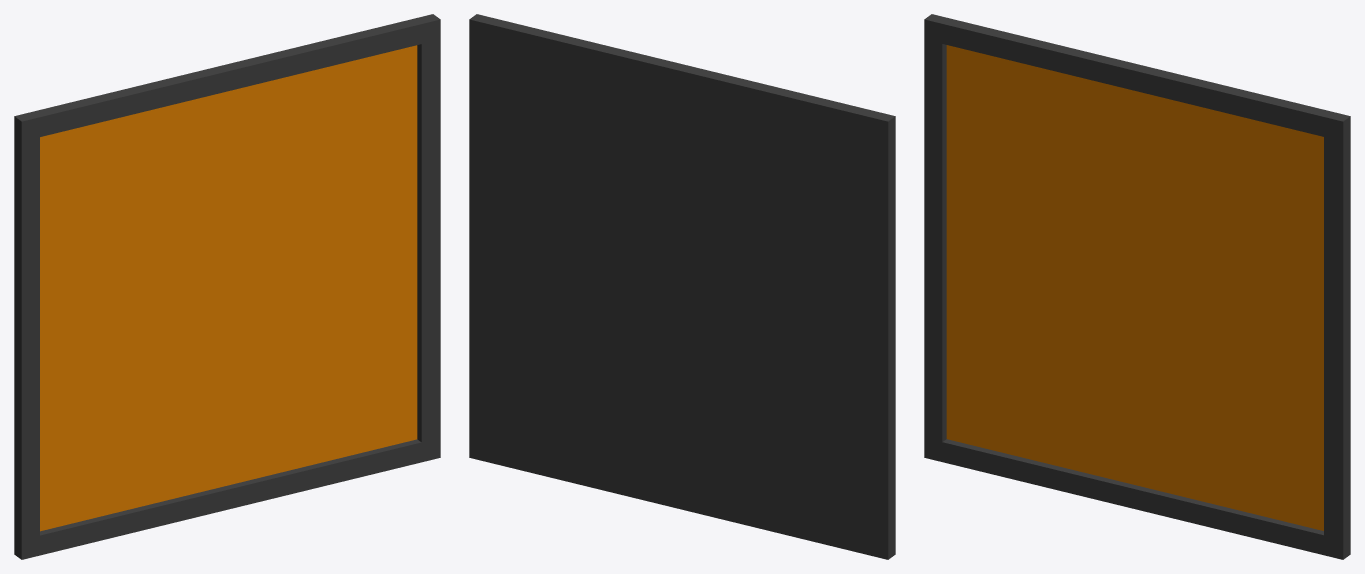
The model's file is картина.fbx.
3 views of the same model, side by side, from view 1: azimuth 30°, elevation 25°; view 2: azimuth 150°, elevation 25°; view 3: azimuth 330°, elevation 25° (orthographic).
Parts seen in each view (by area): view 1: Cube; view 2: Cube; view 3: Cube.
Part boxes in pixels (x1=…): Cube: x1=14, y1=14, x2=440, y2=559; Cube: x1=469, y1=14, x2=895, y2=559; Cube: x1=924, y1=14, x2=1350, y2=559.
Bounding box in the file's own units: 200 × 200 × 6.16.
